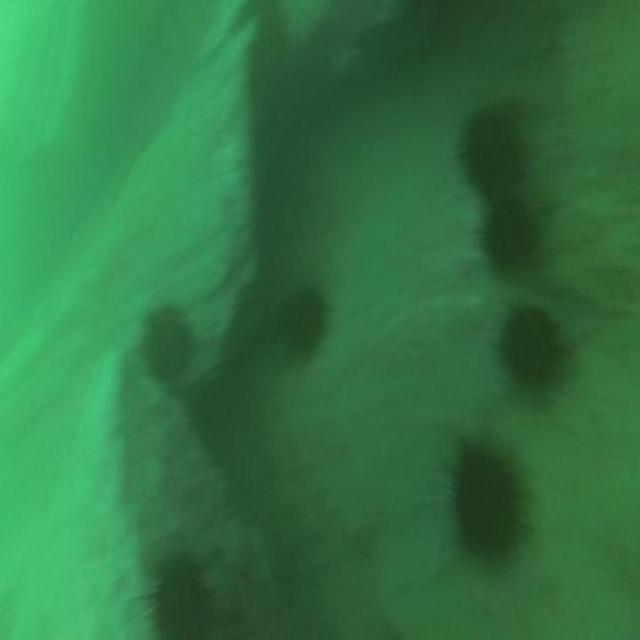echinus: (454, 450, 518, 553), (501, 310, 561, 386), (151, 569, 209, 640), (466, 112, 517, 191), (276, 289, 326, 360), (488, 204, 534, 268), (150, 316, 192, 386)
